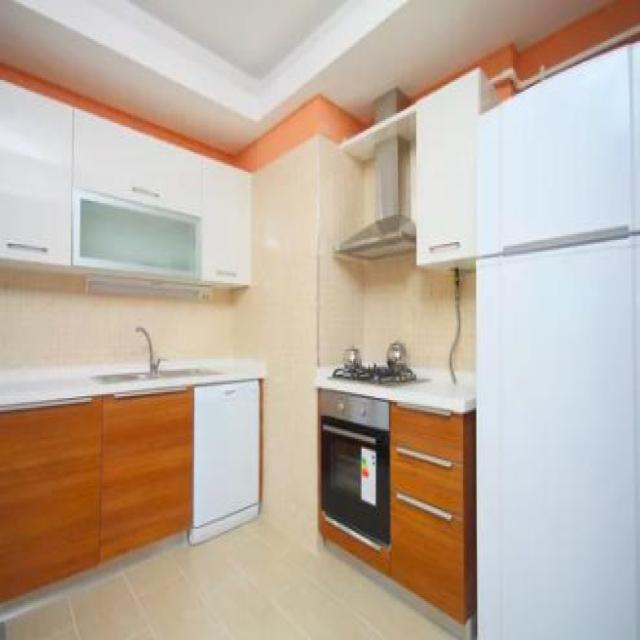dishwasher: (186, 375, 266, 548)
